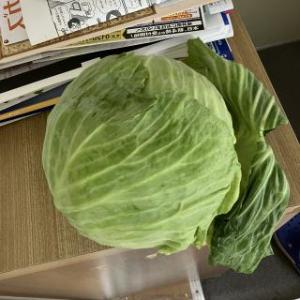cabbage: (41, 52, 243, 258)
